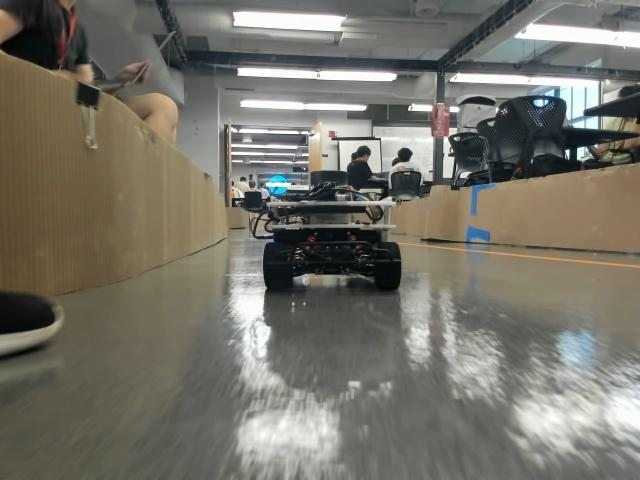Car: (251, 169, 404, 293)
